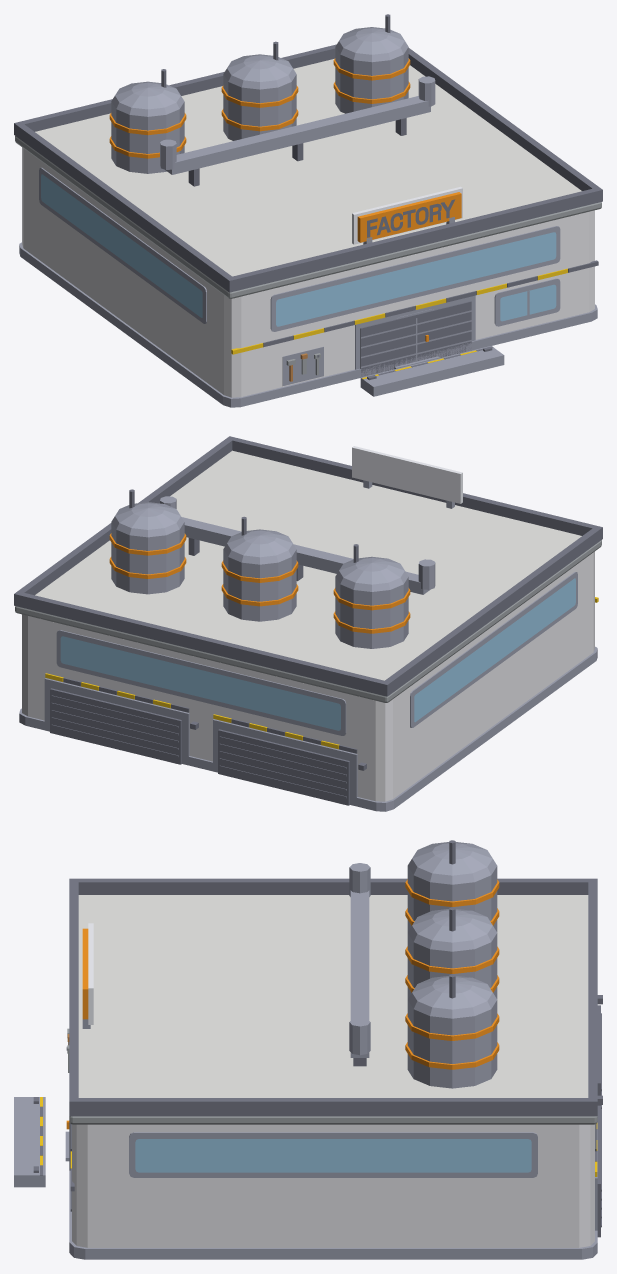
Rendered from factory-2x2-t3-tone-a.glb.
The picture shows the model from 3 angles, top to bottom: view 1: azimuth 30°, elevation 25°; view 2: azimuth 150°, elevation 25°; view 3: azimuth 270°, elevation 25°; orthographic projection. The views are drawn at different scales.
Parts seen in each view (by area): view 1: factory-2x2-t3-tone-a; view 2: factory-2x2-t3-tone-a; view 3: factory-2x2-t3-tone-a.
Part boxes in pixels (x1,y1,x2,y2): factory-2x2-t3-tone-a: (14, 14, 602, 407); factory-2x2-t3-tone-a: (14, 436, 602, 811); factory-2x2-t3-tone-a: (14, 840, 602, 1259).
Size of the model in its own units: 2 by 1.04 by 2.23.
Materials: 1 (1 with a texture image).
